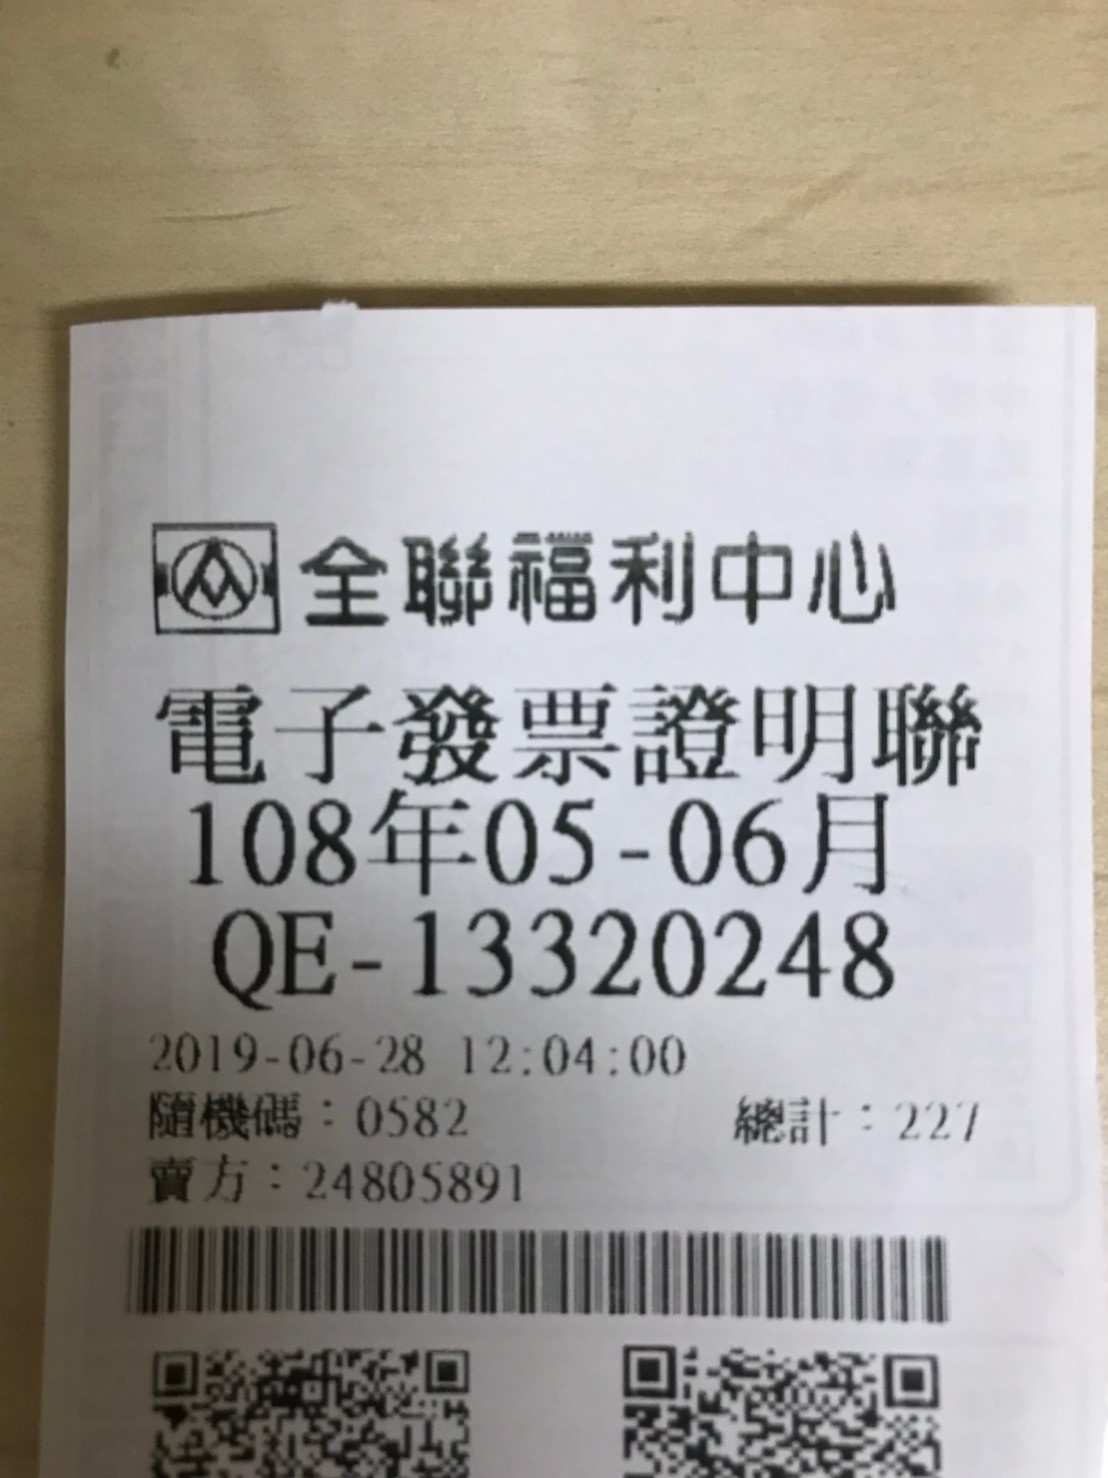Date_New: (183, 788, 893, 898)
Number_New: (411, 898, 899, 1004)
